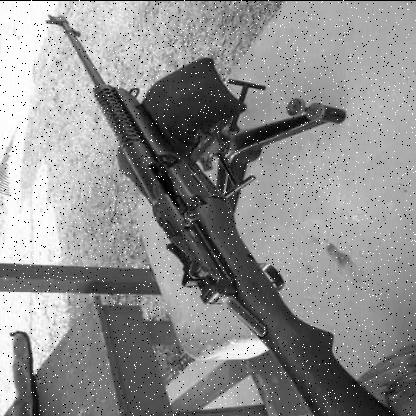rifle: (23, 7, 406, 416)
